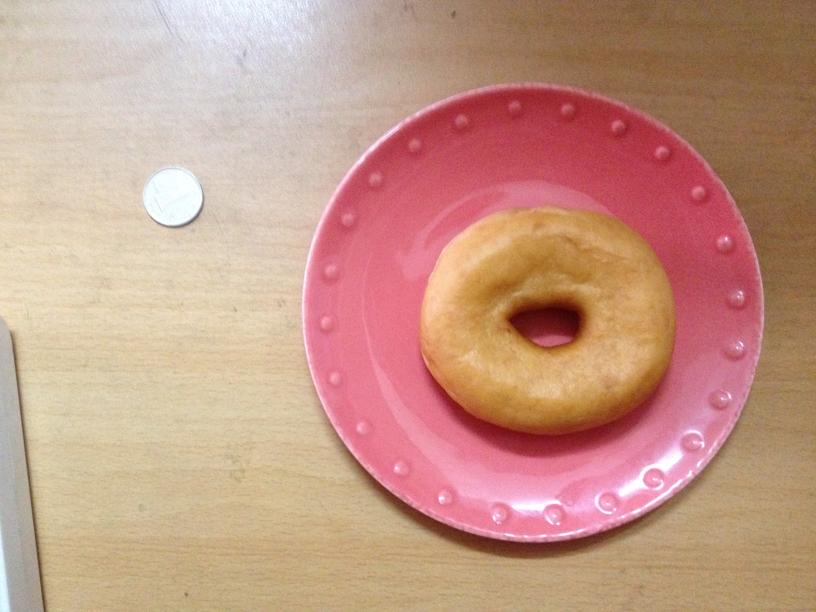coin: (145, 166, 203, 226)
doughnut: (426, 212, 670, 433)
